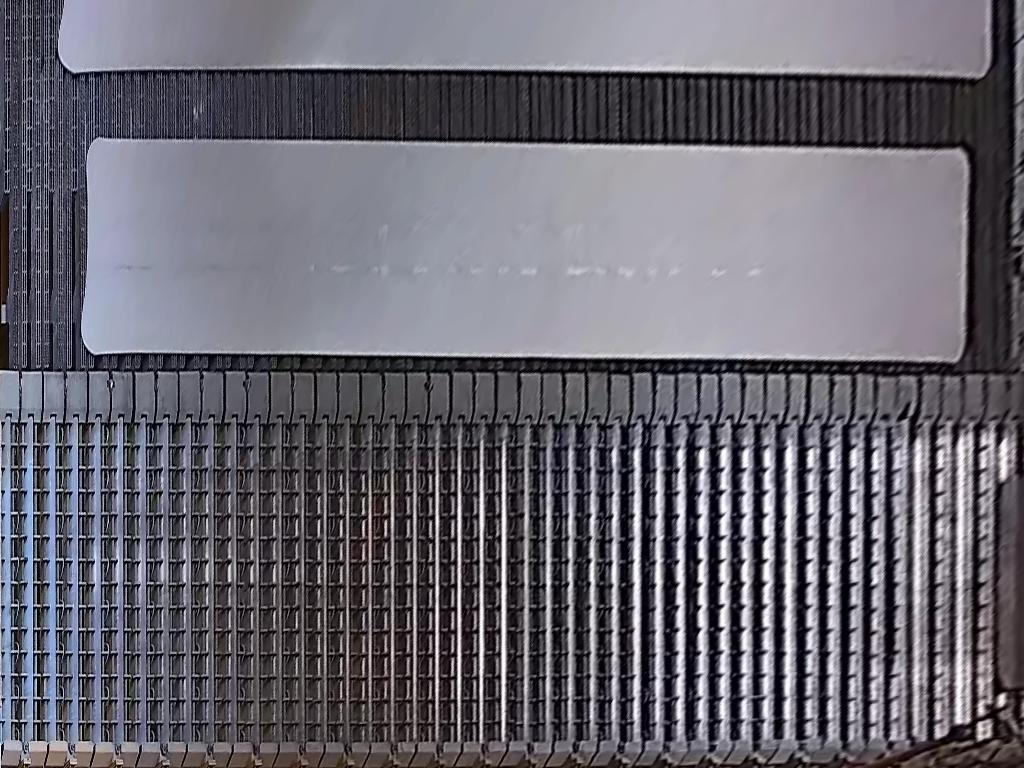steel: (79, 130, 974, 362), (56, 1, 991, 77), (993, 476, 1022, 690)
